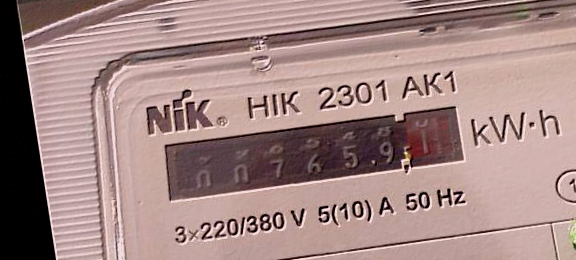0: (230, 159, 253, 187), (193, 164, 215, 193)
1: (416, 124, 435, 158)
5: (338, 140, 364, 170)
6: (303, 149, 325, 176)
7: (266, 155, 290, 183)
9: (376, 137, 398, 167)
screen: (150, 86, 478, 223)
